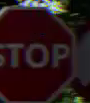Stop: (0, 2, 74, 98)
